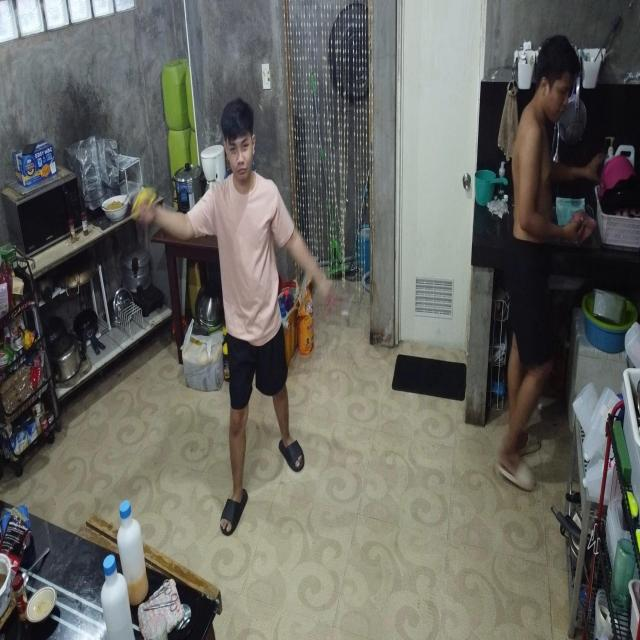scissor: (143, 593, 178, 612), (145, 579, 171, 604)
